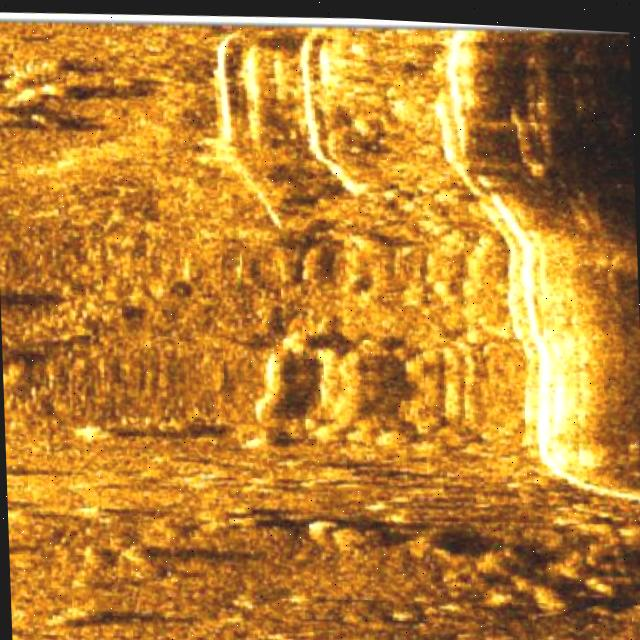bedrock group: (191, 8, 640, 517)
